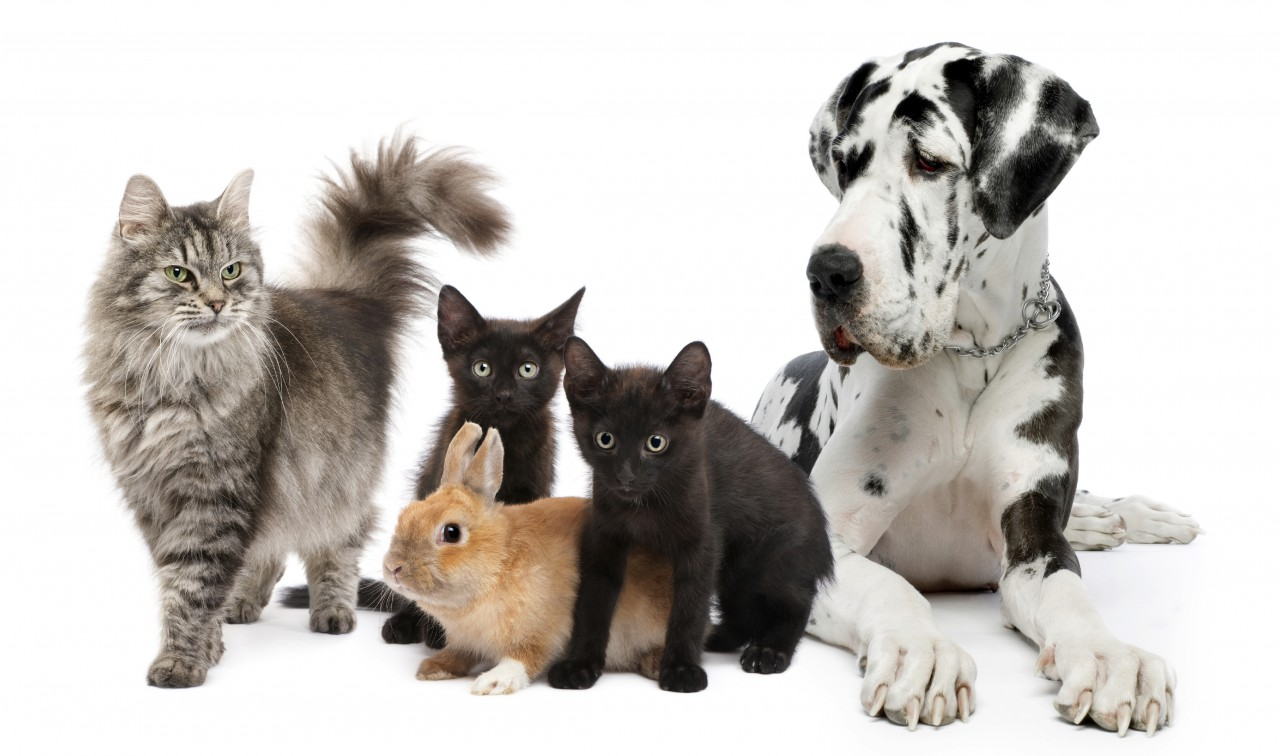cat: (72, 109, 508, 700), (561, 343, 831, 703), (381, 266, 586, 687)
dog: (754, 19, 1222, 746)
rabbit: (343, 402, 744, 720)
